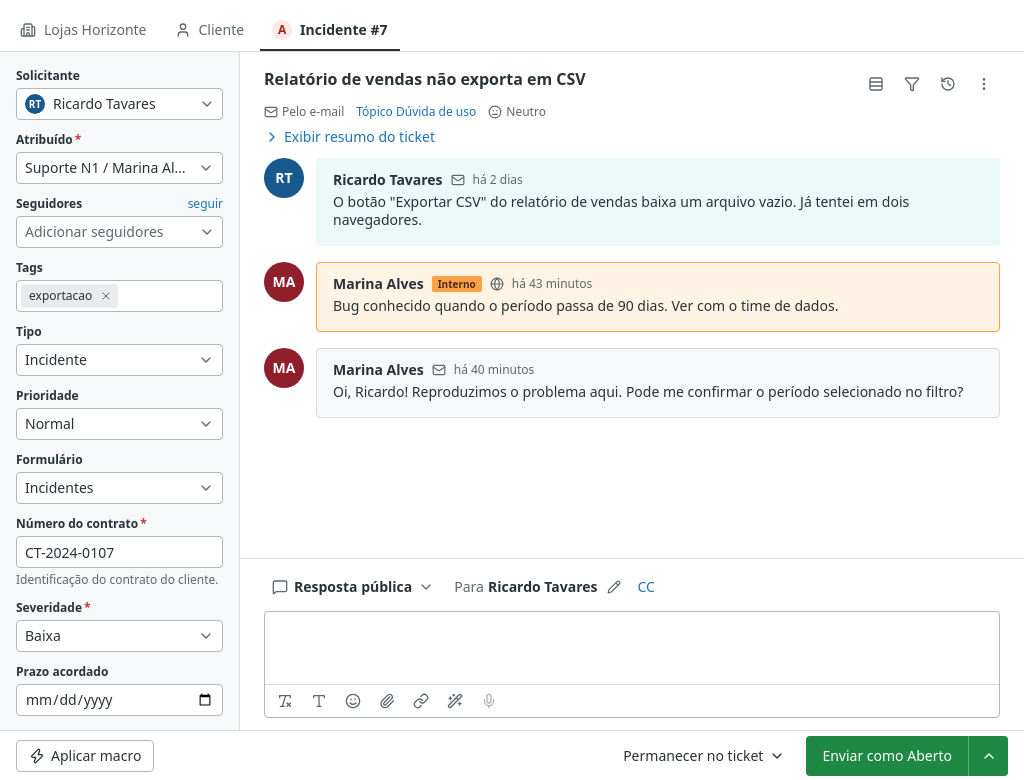
Test: Conversa e Composer › filtro da conversa separa públicas e internas; histórico liga eventos
Expected: the number of elements with test id "message" is 3, [264,158,1000,246]; [264,262,1000,332]; [264,348,1000,418]
Click the button named "Filtrar conversa".
click(912, 84)  # box [896,68,928,100]
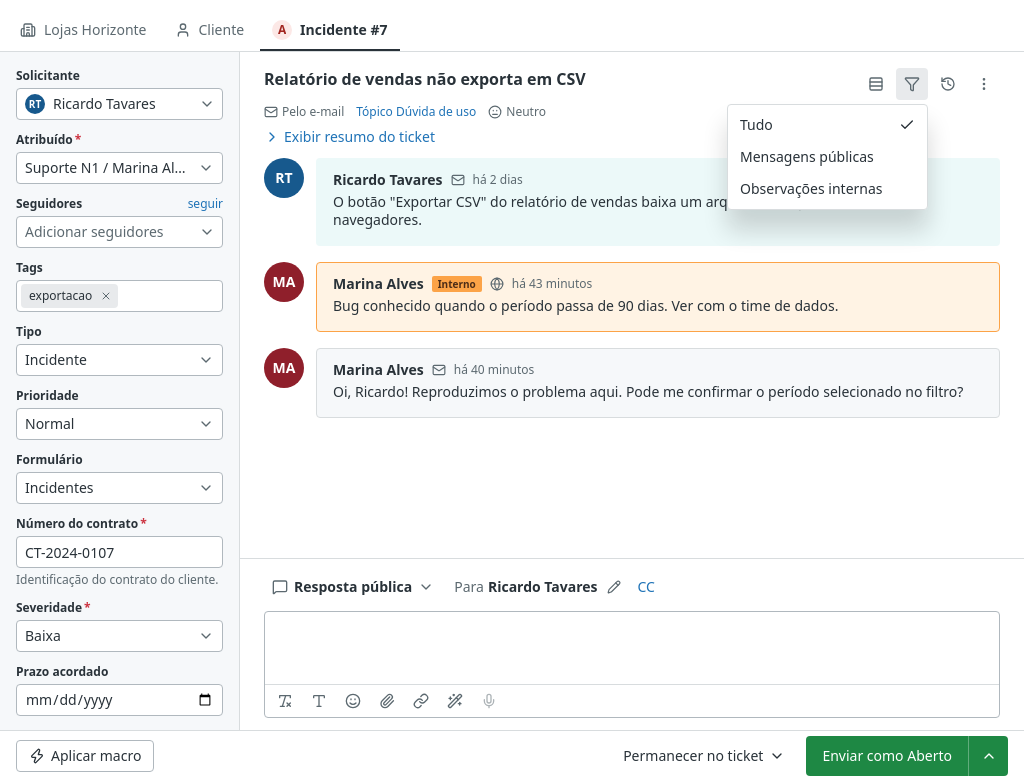
Click the menu item "Observações internas".
click(811, 188)  # box [740,179,882,198]
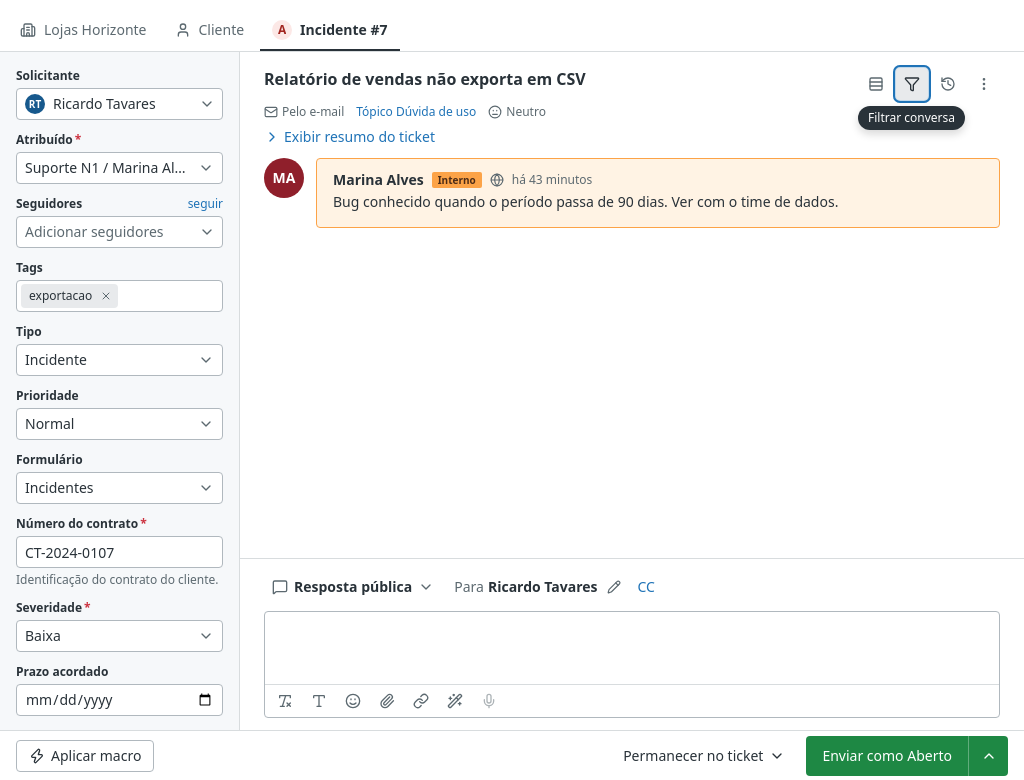
Expected: the text "Interno" is shown, [432,172,482,188]
Click the button named "Filtrar conversa".
click(912, 84)  # box [896,68,928,100]
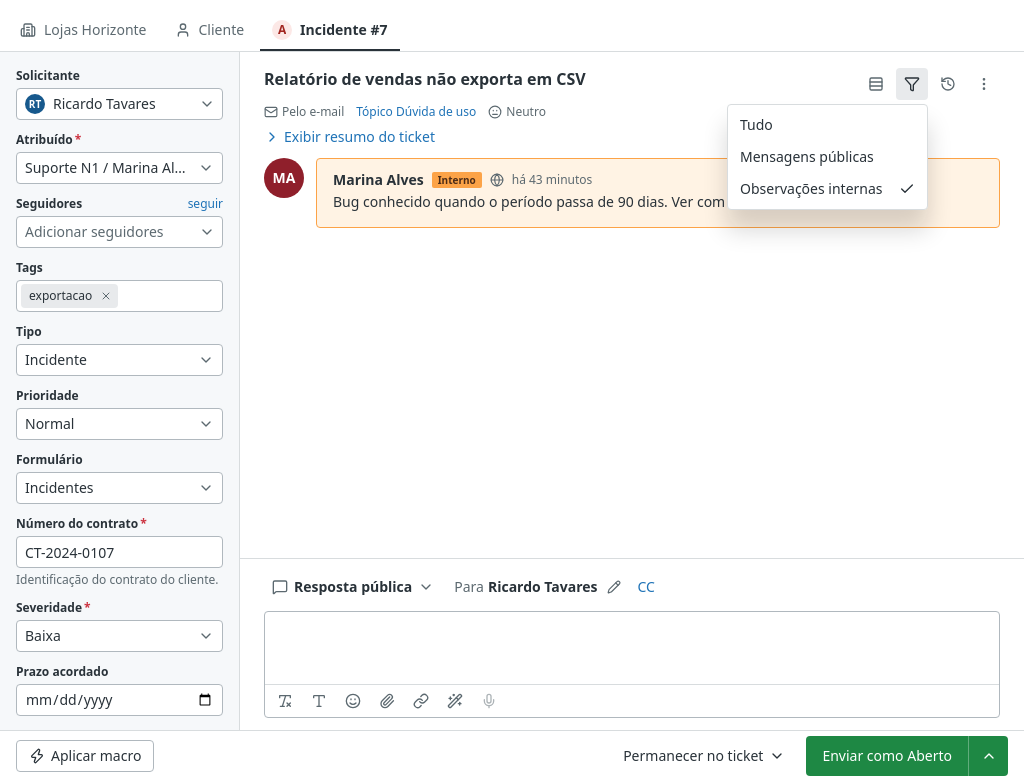
Click the menu item "Mensagens públicas".
click(807, 156)  # box [740,147,874,166]
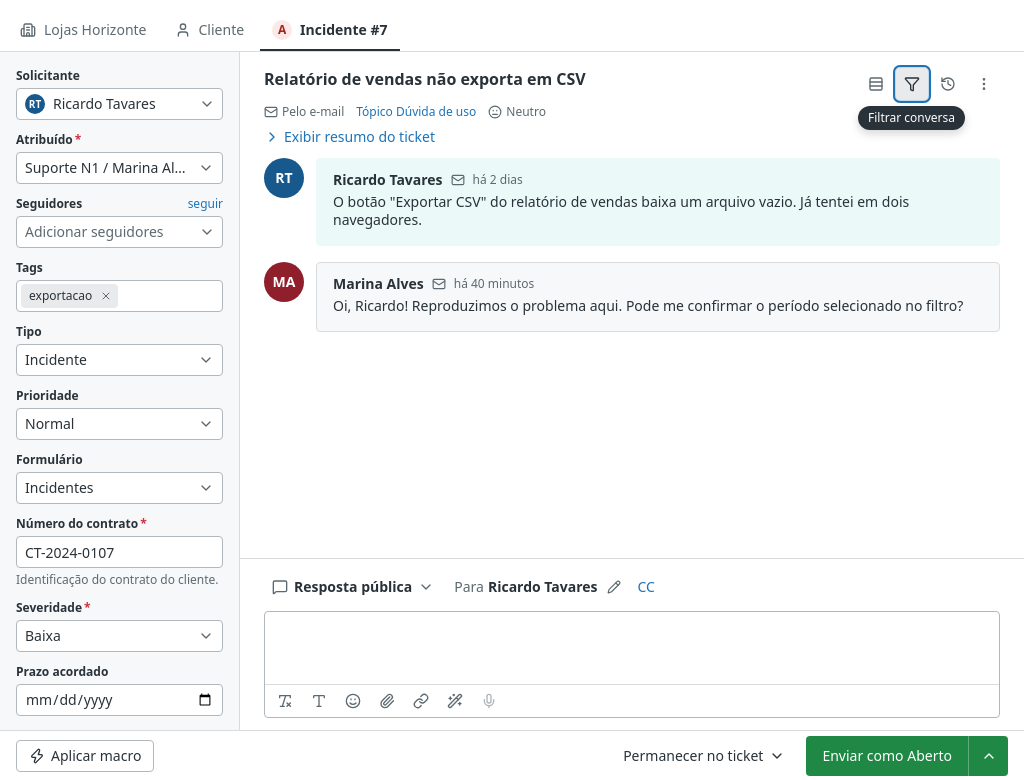
Click the button named "Histórico de eventos".
click(948, 84)  # box [932,68,964,100]
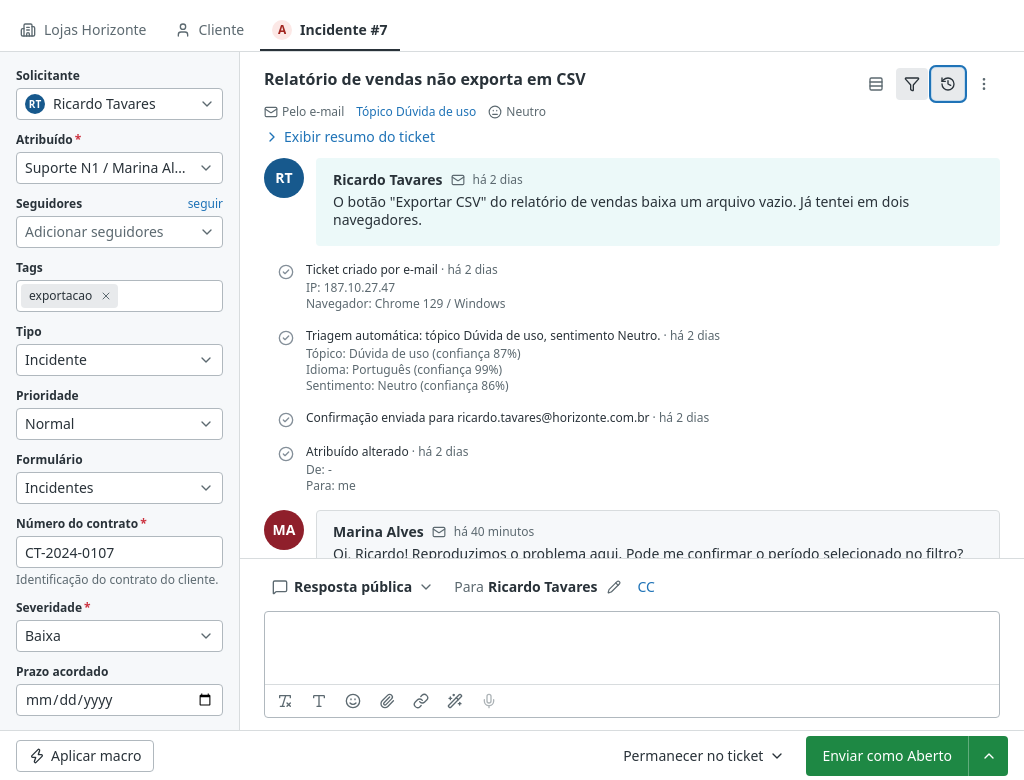
Result: the number of elements with test id "event" is 4 at [278,260,505,312]; [278,326,720,394]; [278,408,709,428]; [278,442,468,494]
